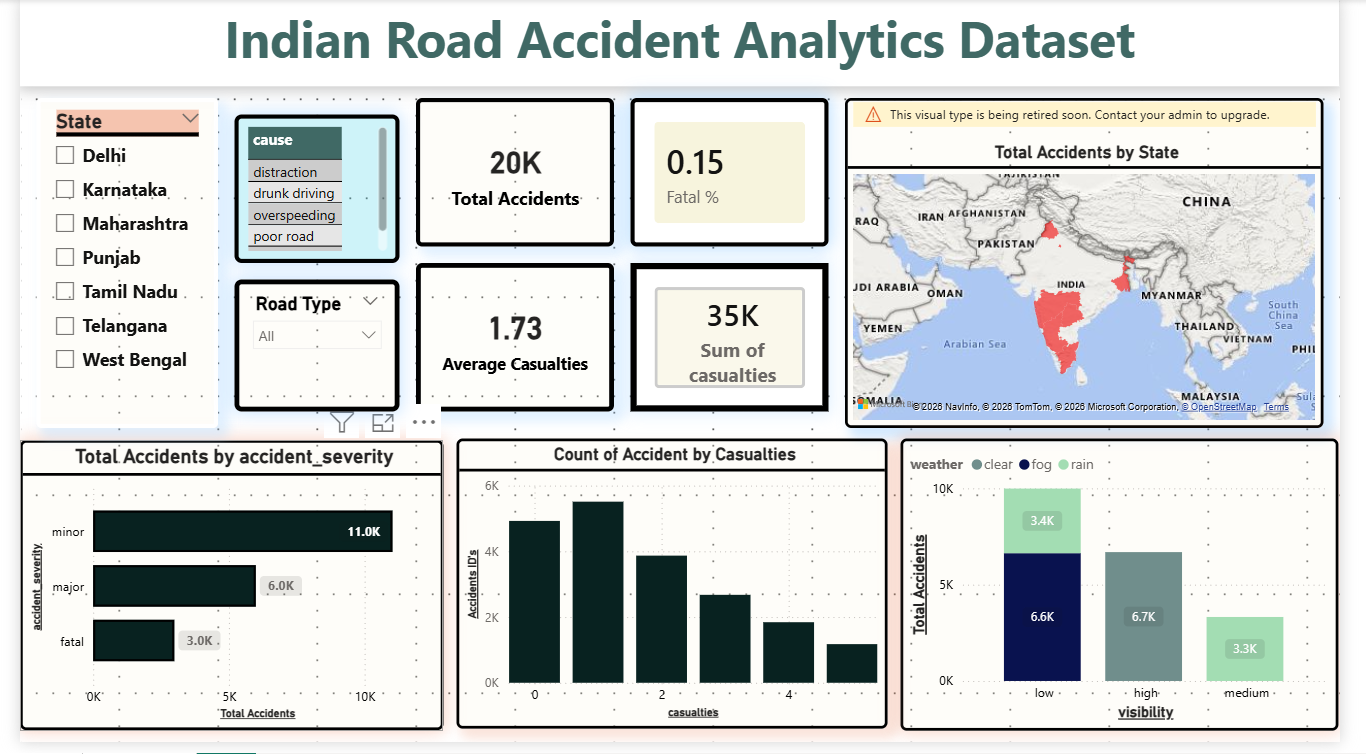

The dashboard page shown, as its layout file describes it:
{"tool":"powerbi","page":{"name":"Page 2","canvas":[1280,720],"ordinal":0},"visuals":[{"type":"textbox","box":[0,0,1279.3,84.5],"z":0},{"type":"card","fields":{"Values":["indian_roads_dataset.Total Accidents"]},"box":[384,96,192,144],"z":1000},{"type":"card","fields":{"Values":["indian_roads_dataset.Average Casualties"]},"box":[384,256,192,144],"z":2000},{"type":"filledMap","title":"Total Accidents by State","fields":{"Category":["indian_roads_dataset.state"]},"box":[800,96,464,320],"z":3000},{"type":"barChart","fields":{"Category":["indian_roads_dataset.accident_severity"],"Y":["indian_roads_dataset.Total Accidents"]},"box":[0,427.9,410.4,281.5],"z":4000},{"type":"columnChart","title":"Count of Accident by Visibility and Weather","fields":{"Category":["indian_roads_dataset.visibility"],"Series":["indian_roads_dataset.weather"],"Y":["indian_roads_dataset.Total Accidents"]},"box":[854.2,426.3,424.7,283.1],"z":5000},{"type":"slicer","fields":{"Values":["indian_roads_dataset.state"]},"box":[16,96,176,320],"z":6000},{"type":"clusteredColumnChart","title":"Count of Accident by Casualties","fields":{"Category":["indian_roads_dataset.casualties"],"Y":["Count(indian_roads_dataset.accident_id)"]},"box":[423.1,426.3,418.3,281.5],"z":7000},{"type":"cardVisual","fields":{"Data":["indian_roads_dataset.Fatal %"]},"box":[592,96,192,144],"z":8000},{"type":"cardVisual","fields":{"Data":["Sum(indian_roads_dataset.casualties)"]},"box":[592,256,192,144],"z":9000},{"type":"tableEx","fields":{"Values":["indian_roads_dataset.cause"]},"box":[208,112,160,144],"z":10000},{"type":"slicer","fields":{"Values":["indian_roads_dataset.road_type"]},"box":[208,272,160,128],"z":11000}]}

Visuals, with their boxes in screenshot pixels (x1, y1, x2, y2), scaled from the page's 1280x720 canvas onto the 1366x754 screenshot:
textbox: 0:0:1365:88
card - indian_roads_dataset.Total Accidents: 410:101:615:251
card - indian_roads_dataset.Average Casualties: 410:268:615:419
"Total Accidents by State" filledMap: 854:101:1349:436
barChart - indian_roads_dataset.accident_severity x indian_roads_dataset.Total Accidents: 0:448:438:743
"Count of Accident by Visibility and Weather" columnChart: 912:446:1365:743
slicer - indian_roads_dataset.state: 17:101:205:436
"Count of Accident by Casualties" clusteredColumnChart: 452:446:898:741
cardVisual - indian_roads_dataset.Fatal %: 632:101:837:251
cardVisual - Sum(indian_roads_dataset.casualties): 632:268:837:419
tableEx - indian_roads_dataset.cause: 222:117:393:268
slicer - indian_roads_dataset.road_type: 222:285:393:419
